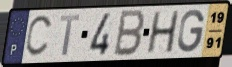4: (88, 10, 114, 57)
B: (111, 9, 147, 58)
C: (24, 14, 55, 59)
G: (176, 8, 206, 55)
H: (145, 9, 181, 55)
T: (59, 13, 82, 57)
